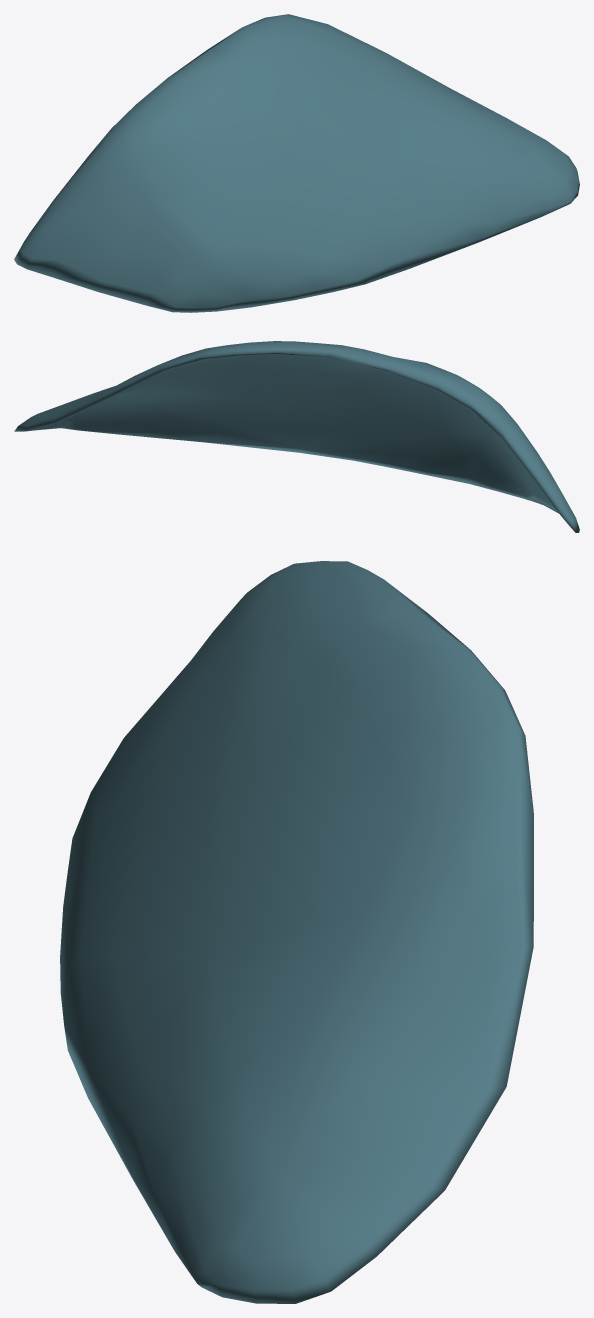
Rendered from Quadriceps_femoris_base_patella_right.glb.
3 renders of one model, top to bottom at view 1: azimuth 30°, elevation 25°; view 2: azimuth 150°, elevation 25°; view 3: azimuth 270°, elevation 25°, orthographic. The views are drawn at different scales.
Visible parts, largest first — view 1: Quadriceps_femoris_on_base_of_patella.r_Generated_Mesh_From_; view 2: Quadriceps_femoris_on_base_of_patella.r_Generated_Mesh_From_; view 3: Quadriceps_femoris_on_base_of_patella.r_Generated_Mesh_From_.
Boxes of the visible parts, box(x1,y1,x2,y2) form: Quadriceps_femoris_on_base_of_patella.r_Generated_Mesh_From_: box(14, 14, 579, 312); Quadriceps_femoris_on_base_of_patella.r_Generated_Mesh_From_: box(14, 341, 579, 532); Quadriceps_femoris_on_base_of_patella.r_Generated_Mesh_From_: box(60, 561, 533, 1303).
Size of the model in its own units: 0.0374 by 0.0124 by 0.0138.
